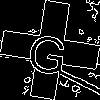G: (25, 25, 71, 76)
